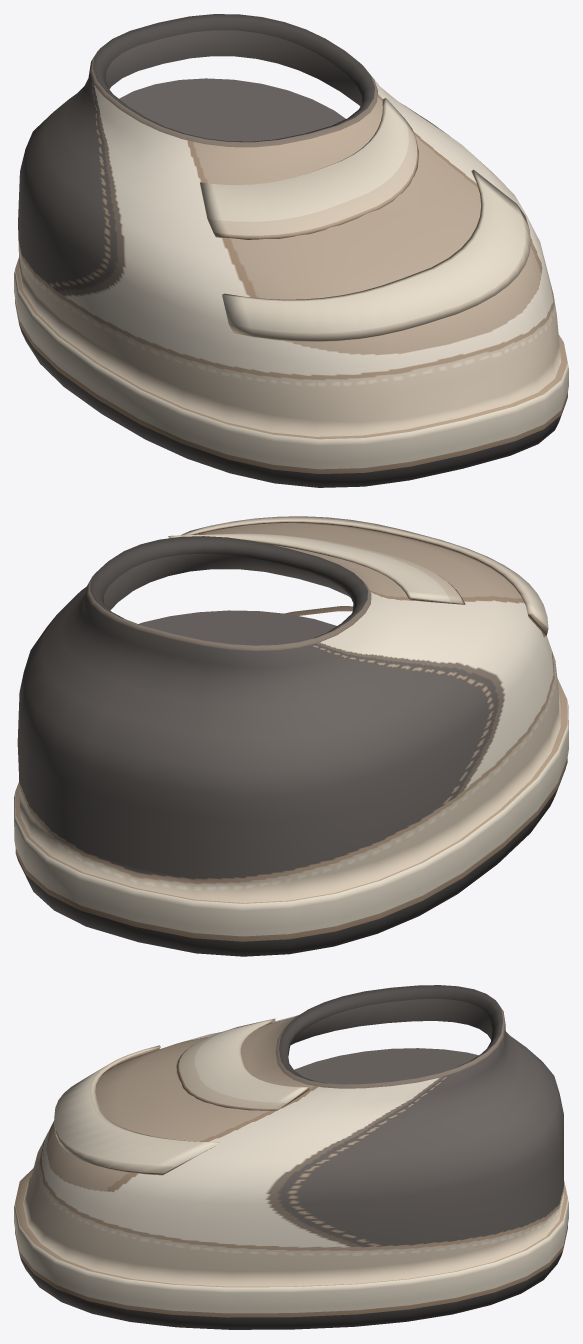
The model's file is wear-shoe-strap-sneaker.glb.
3 views of the same model, one above another, from view 1: azimuth 30°, elevation 25°; view 2: azimuth 150°, elevation 25°; view 3: azimuth 270°, elevation 25° (orthographic). The views are drawn at different scales.
Visible parts, largest first — view 1: wear-shoe-l; view 2: wear-shoe-l; view 3: wear-shoe-l.
Boxes of the visible parts, x1,y1,x2,y2 form: wear-shoe-l: (14, 14, 568, 487); wear-shoe-l: (14, 516, 568, 956); wear-shoe-l: (14, 985, 568, 1329).
Bounding box in the file's own units: 0.1268 × 0.081 × 0.1788.
1 material, 1 textured.
